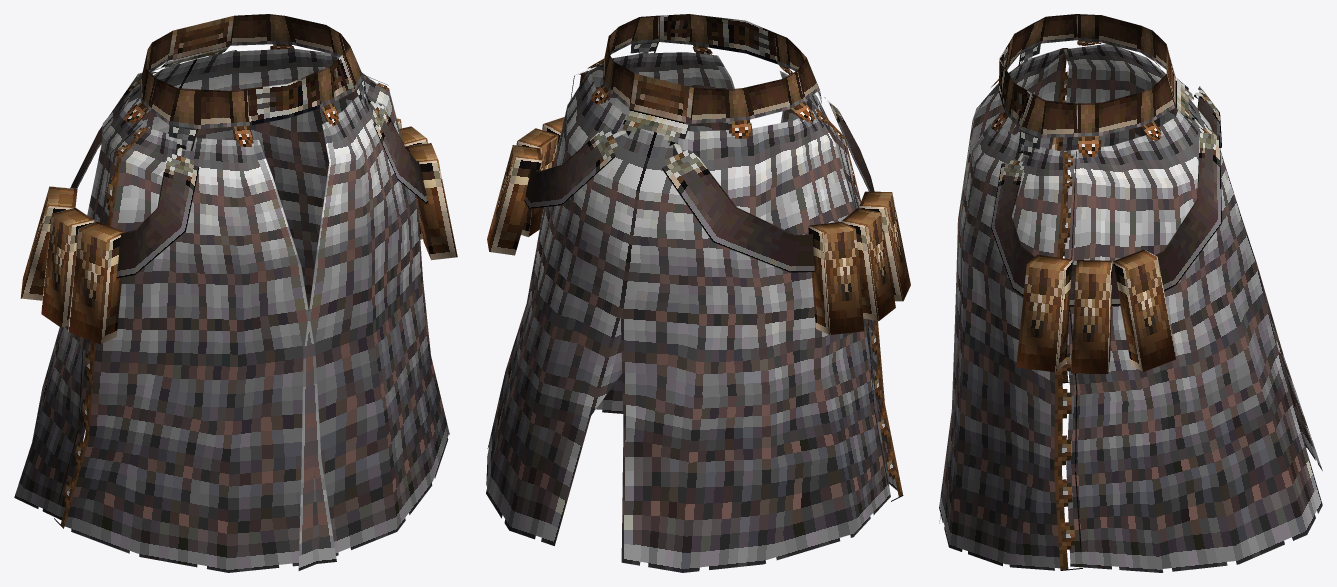
Rendered from m_waist048.obj.
The picture shows the model from 3 angles, left to right: view 1: azimuth 30°, elevation 25°; view 2: azimuth 150°, elevation 25°; view 3: azimuth 270°, elevation 25°; orthographic projection. The views are drawn at different scales.
Visible parts, largest first — view 1: mesh01, mesh00, mesh02; view 2: mesh01, mesh00, mesh02; view 3: mesh01, mesh00, mesh02.
Part boxes in pixels (x1=…): mesh01: x1=14, y1=48, x2=449, y2=572; mesh00: x1=20, y1=14, x2=457, y2=344; mesh02: x1=285, y1=16, x2=349, y2=57; mesh01: x1=486, y1=52, x2=903, y2=572; mesh00: x1=487, y1=14, x2=910, y2=334; mesh02: x1=587, y1=17, x2=639, y2=82; mesh01: x1=939, y1=44, x2=1322, y2=572; mesh00: x1=991, y1=14, x2=1221, y2=373; mesh02: x1=1041, y1=92, x2=1140, y2=156.
Bounding box in the file's own units: 68.16 × 77.06 × 58.45.
3 materials, 3 textured.
